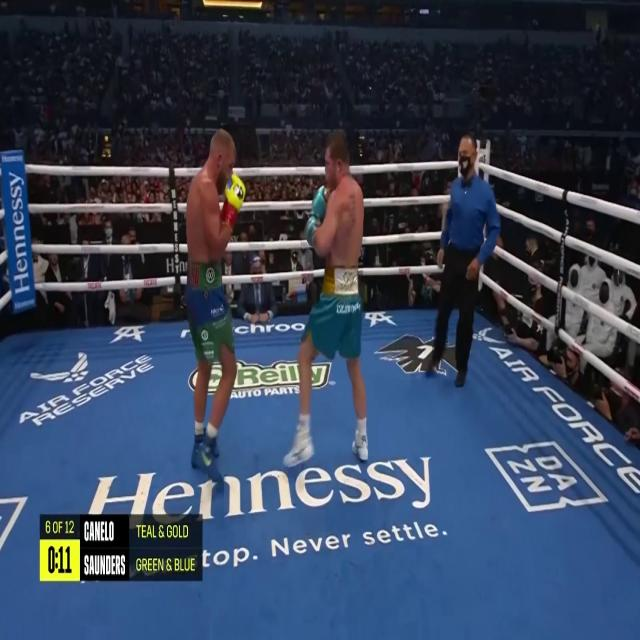boxer_1: (186, 128, 237, 263)
boxer_2: (324, 129, 363, 268)
gloves_1: (218, 173, 244, 231)
gloves_2: (303, 187, 333, 249)
